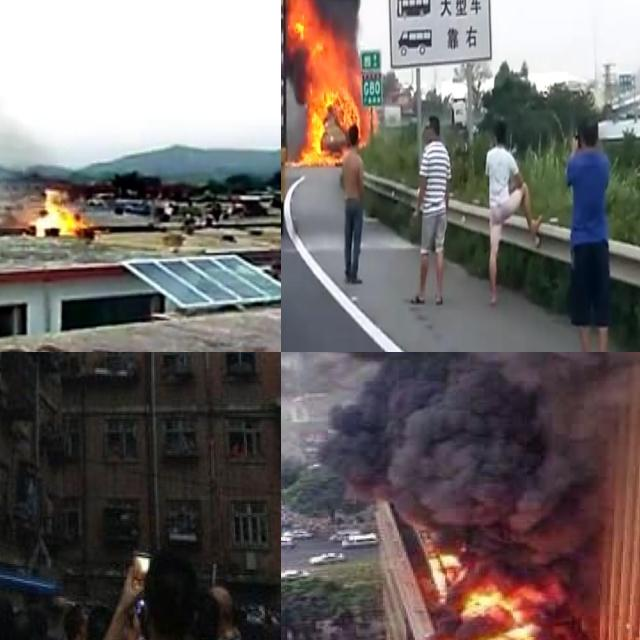fire: (426, 543, 568, 640), (288, 0, 365, 166), (28, 182, 92, 238), (576, 322, 610, 352)
smoke: (281, 352, 640, 542)
